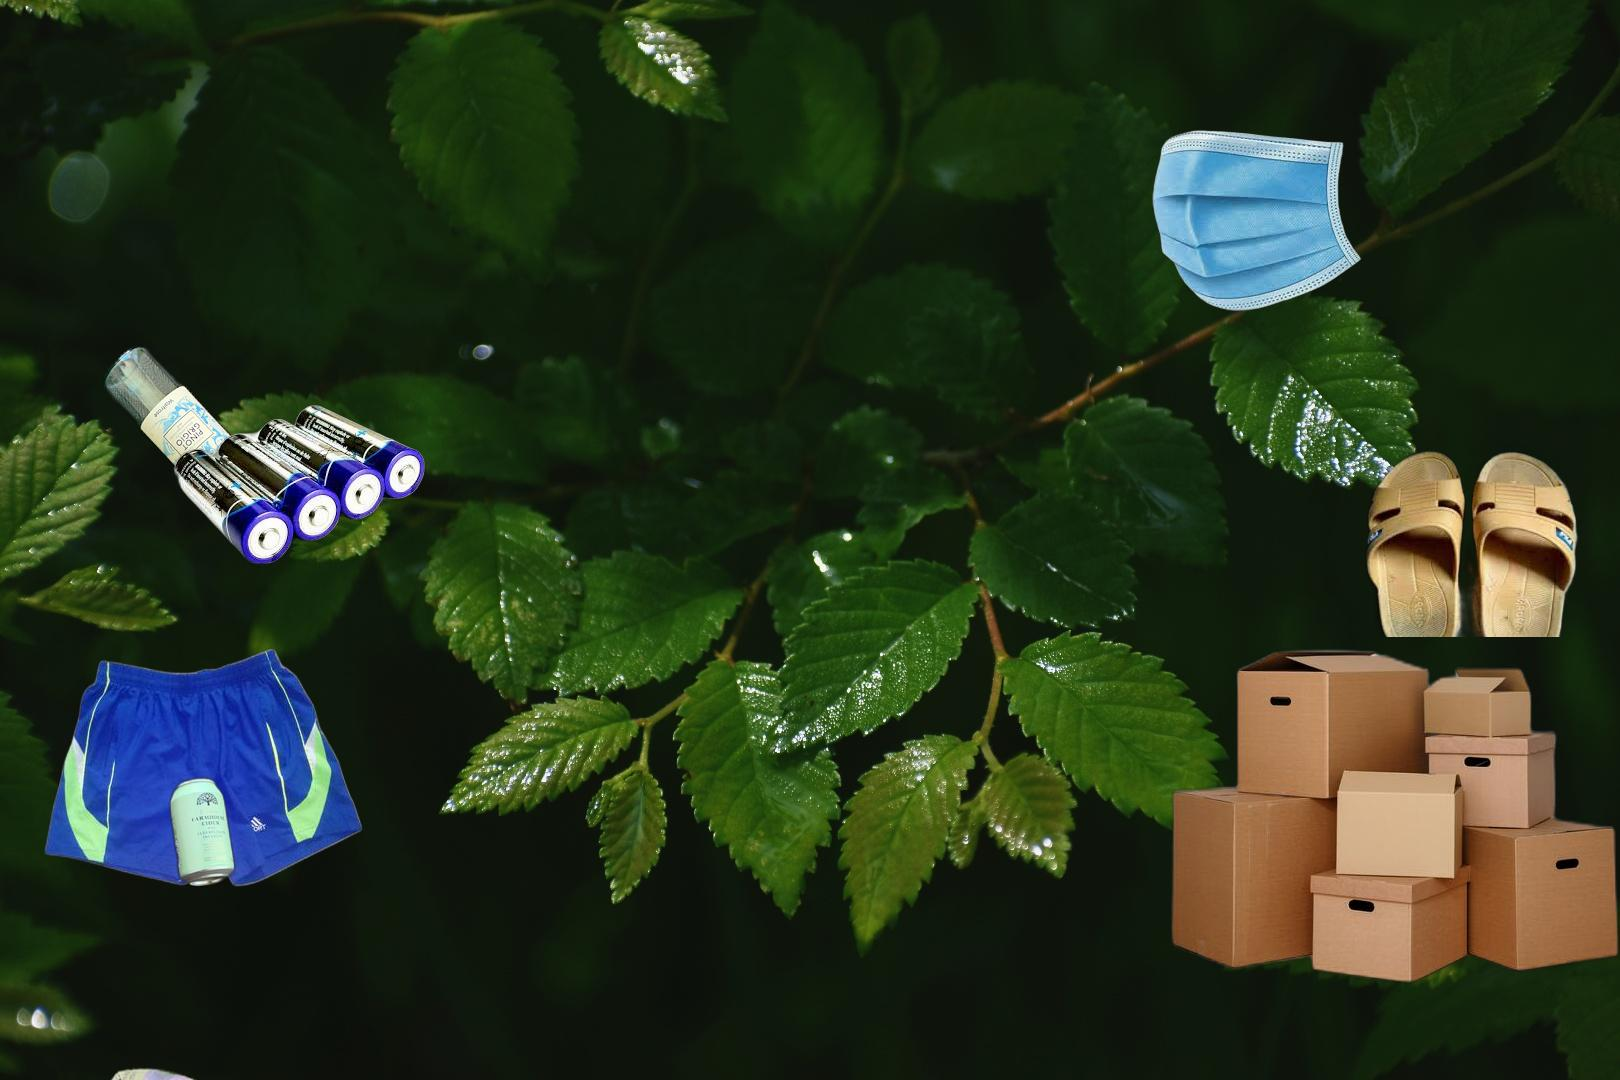battery: (171, 403, 428, 567)
clothes: (41, 644, 366, 891)
glass: (100, 339, 294, 548)
metal-cans: (165, 771, 240, 892), (75, 1062, 252, 1080)
shoes: (1348, 448, 1581, 636)
trash: (1152, 127, 1401, 311)
trashbox-cardboard: (1167, 642, 1620, 990)
